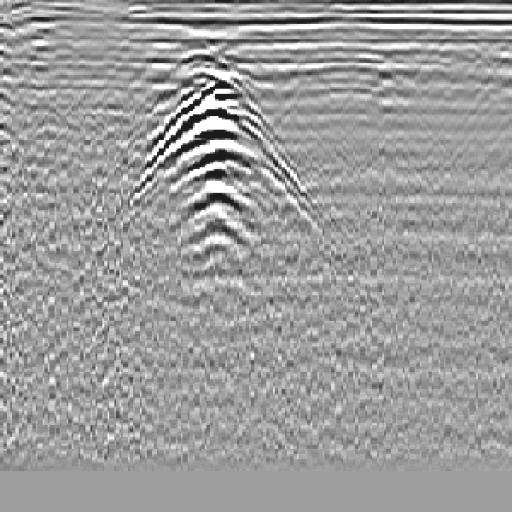metalic: (115, 44, 330, 287)
